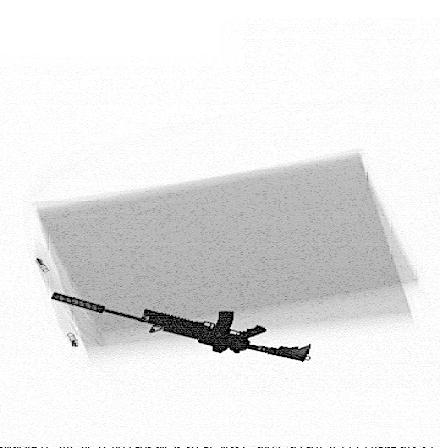Gun: (50, 291, 312, 363)
